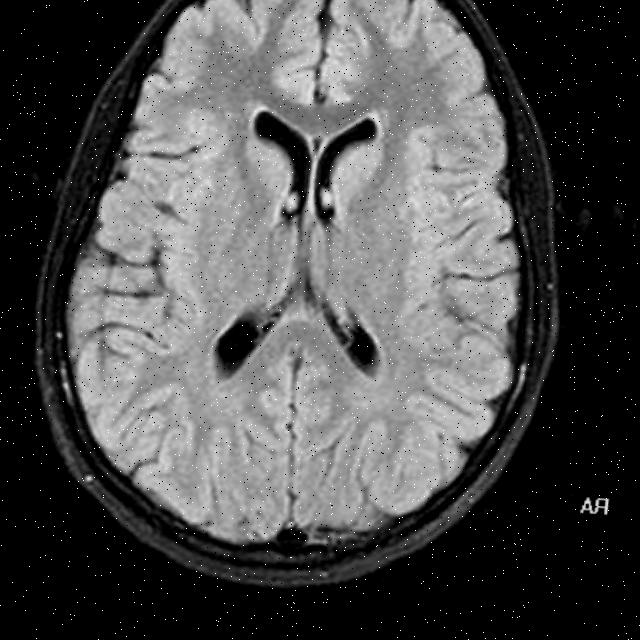NoTumor: (31, 0, 561, 580)
